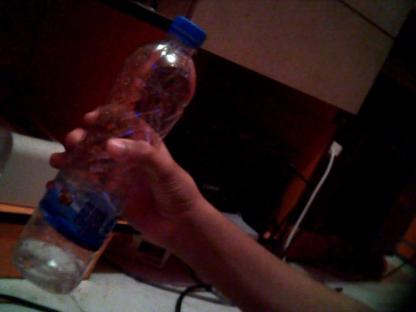Plastic Bottle: (9, 15, 210, 293)
